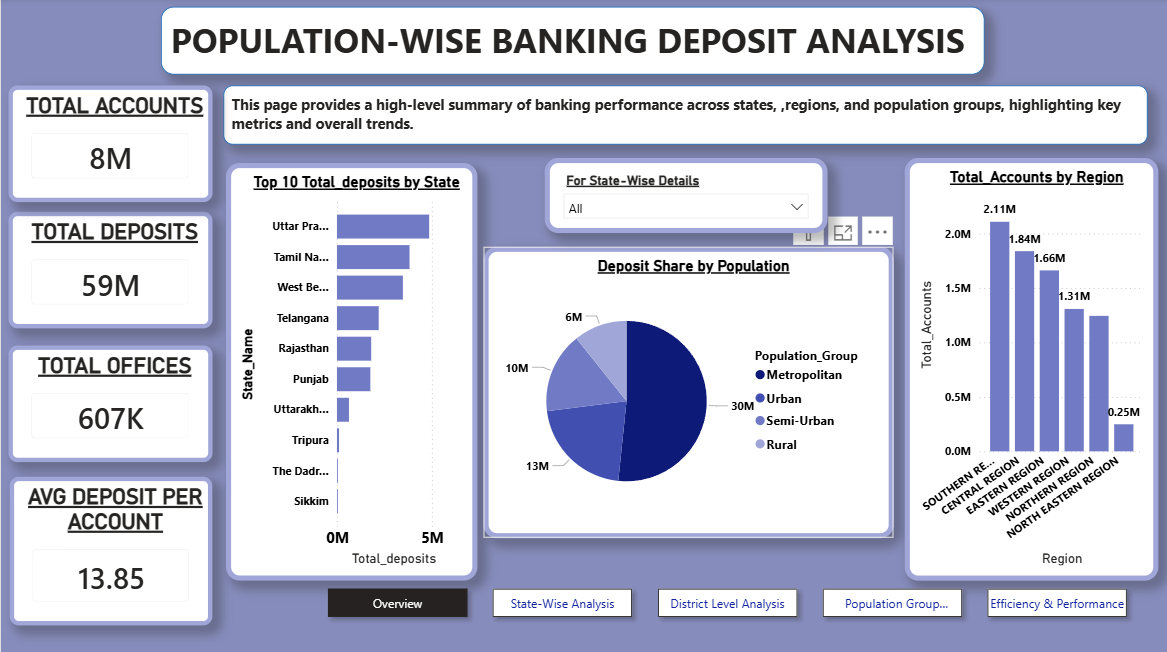

The dashboard page shown, as its layout file describes it:
{"tool":"powerbi","page":{"name":"Overview","canvas":[1280,720],"ordinal":0},"visuals":[{"type":"textbox","box":[175.6,9.6,904.3,74.1],"z":0},{"type":"textbox","box":[244.3,96.1,1014.1,64.5],"z":1000},{"type":"cardVisual","title":"TOTAL DEPOSITS","fields":{"Data":["Cleaned Data.Total_deposits"]},"box":[8.2,234.6,223.7,127.6],"z":2000},{"type":"cardVisual","title":"TOTAL ACCOUNTS","fields":{"Data":["Cleaned Data.Total_Accounts"]},"box":[8.2,96.1,223.7,127.6],"z":3000},{"type":"cardVisual","title":"TOTAL OFFICES","fields":{"Data":["Cleaned Data.Total_Offices"]},"box":[8.2,381.5,223.7,127.6],"z":4000},{"type":"cardVisual","title":"AVG DEPOSIT PER ACCOUNT","fields":{"Data":["Cleaned Data.Avg_Accounts_per_Office"]},"box":[9.6,525.6,222.3,163.3],"z":5000},{"type":"barChart","title":"Top 10 Total_deposits by State","fields":{"Category":["Cleaned Data.State_Name"],"Y":["Cleaned Data.Total_deposits"]},"box":[247,181.1,275.8,458.3],"z":6000},{"type":"pieChart","title":"Deposit Share by Population","fields":{"Category":["Cleaned Data.Population_Group"],"Y":["Cleaned Data.Total_deposits"]},"box":[529.7,273.1,450.1,319.7],"z":7000},{"type":"clusteredColumnChart","fields":{"Category":["Cleaned Data.Region"],"Y":["Cleaned Data.Total_Accounts"]},"box":[992.1,175.6,278.6,463.8],"z":8000},{"type":"slicer","fields":{"Values":["Cleaned Data.State_Name","Cleaned Data.Region","Cleaned Data.Population_Group"]},"box":[596.9,175.6,310.1,82.3],"z":9000},{"type":"pageNavigator","box":[349.9,639.5,897.4,49.4],"z":10000}]}

Visuals, with their boxes in screenshot pixels (x1, y1, x2, y2), scaled from the page's 1280x720 canvas onto the 1167x652 screenshot:
textbox: 160,9,985,76
textbox: 223,87,1147,145
"TOTAL DEPOSITS" cardVisual: 7,212,211,328
"TOTAL ACCOUNTS" cardVisual: 7,87,211,203
"TOTAL OFFICES" cardVisual: 7,345,211,461
"AVG DEPOSIT PER ACCOUNT" cardVisual: 9,476,211,624
"Top 10 Total_deposits by State" barChart: 225,164,477,579
"Deposit Share by Population" pieChart: 483,247,893,537
clusteredColumnChart - Cleaned Data.Region x Cleaned Data.Total_Accounts: 905,159,1159,579
slicer - Cleaned Data.State_Name x Cleaned Data.Region: 544,159,827,234
pageNavigator: 319,579,1137,624
